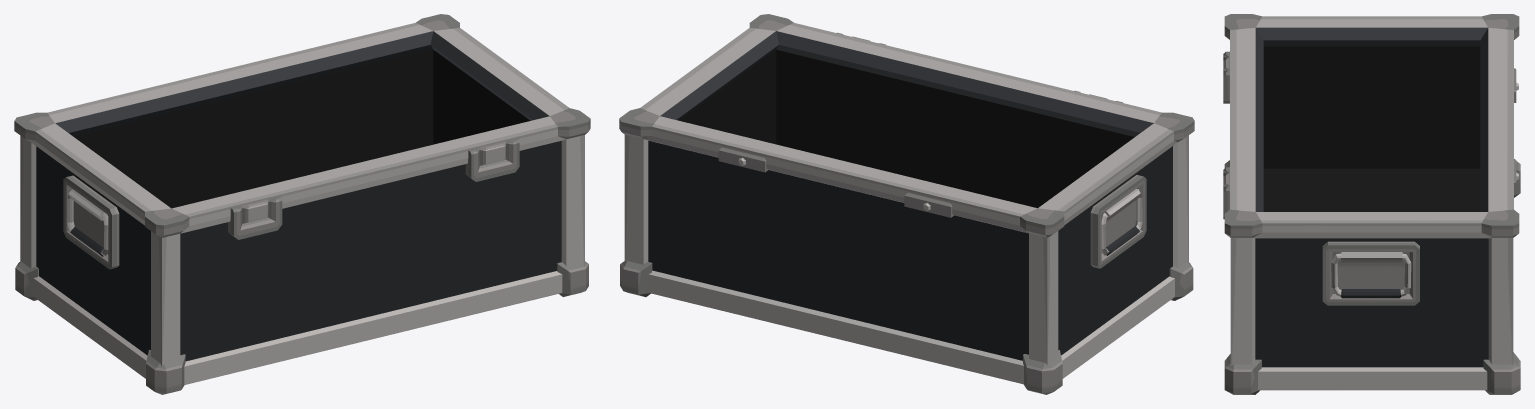
The model's file is SM_Prop_Equipment_Case_01.obj.
3 views of the same model, side by side, from view 1: azimuth 30°, elevation 25°; view 2: azimuth 150°, elevation 25°; view 3: azimuth 270°, elevation 25° (orthographic).
Parts seen in each view (by area): view 1: SM_Prop_Equipment_Case_01_0; view 2: SM_Prop_Equipment_Case_01_0; view 3: SM_Prop_Equipment_Case_01_0.
Part boxes in pixels (bbox=[...]): SM_Prop_Equipment_Case_01_0: bbox=[14, 14, 590, 394]; SM_Prop_Equipment_Case_01_0: bbox=[619, 14, 1194, 394]; SM_Prop_Equipment_Case_01_0: bbox=[1223, 14, 1520, 394].
Bounding box in the file's own units: 1.39 × 0.5254 × 0.8176.
1 material, 1 textured.
